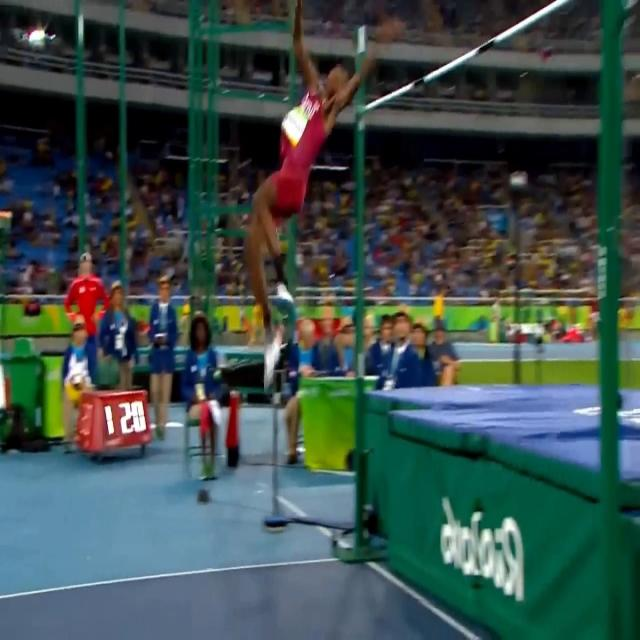jump: (244, 0, 406, 393)
